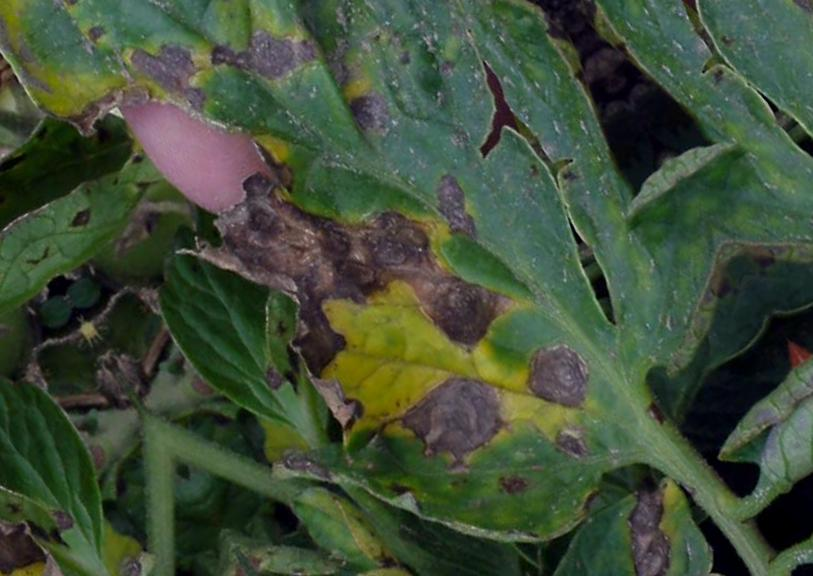Tomato Early blight leaf: (47, 0, 813, 576)
